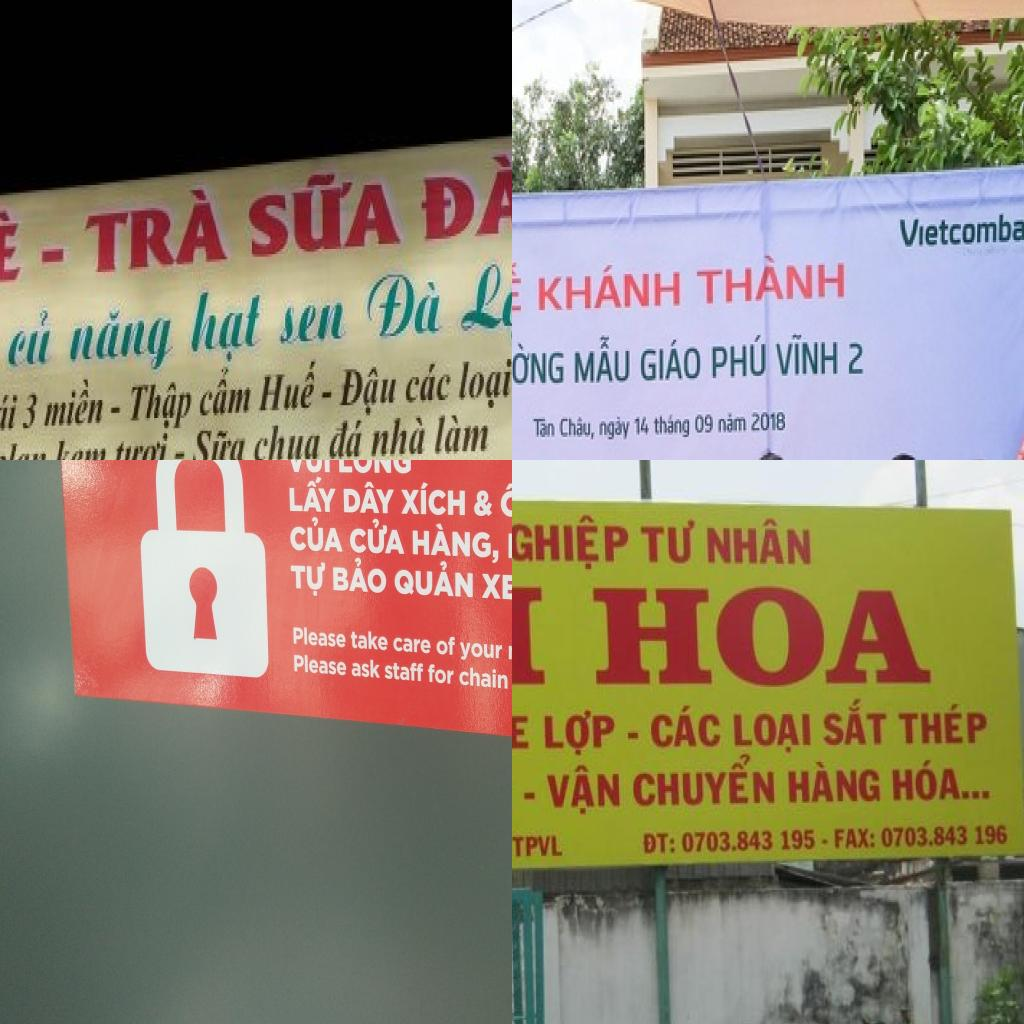text: (584, 578, 946, 697), (243, 164, 409, 267), (79, 180, 236, 285), (692, 249, 852, 310), (416, 149, 512, 249), (632, 754, 780, 818), (534, 258, 686, 317), (65, 303, 180, 377), (186, 282, 271, 367), (512, 511, 630, 572), (361, 267, 448, 346), (886, 752, 996, 810), (705, 516, 815, 571), (541, 755, 623, 822), (784, 759, 885, 813), (894, 700, 993, 754), (454, 259, 512, 348), (678, 824, 819, 860), (276, 292, 352, 354), (538, 706, 618, 762), (406, 520, 501, 567), (39, 372, 108, 436), (126, 377, 198, 438), (729, 706, 818, 755), (818, 694, 892, 752), (256, 354, 323, 418), (772, 326, 843, 383), (194, 364, 255, 428), (336, 362, 403, 420), (646, 704, 725, 753), (638, 331, 706, 387), (4, 306, 59, 374), (456, 351, 512, 417), (708, 328, 771, 385), (393, 558, 477, 600), (571, 331, 633, 387), (637, 516, 700, 569), (249, 418, 327, 460), (368, 410, 429, 460), (430, 413, 494, 460), (402, 356, 455, 410), (512, 337, 567, 389), (397, 479, 469, 518), (0, 202, 28, 300), (345, 519, 409, 558), (330, 557, 389, 599), (340, 477, 398, 519), (287, 516, 346, 557), (188, 425, 253, 460), (285, 475, 338, 517), (109, 428, 172, 460), (287, 556, 328, 602), (326, 415, 367, 460), (290, 621, 348, 652), (292, 652, 348, 680), (830, 822, 879, 854), (512, 830, 564, 860), (50, 436, 112, 460), (458, 664, 510, 692), (650, 410, 694, 442), (335, 460, 413, 477), (34, 238, 70, 274), (748, 405, 788, 437), (477, 568, 512, 604), (457, 637, 505, 663), (638, 830, 679, 860), (0, 390, 23, 441), (512, 707, 534, 760), (19, 390, 43, 438), (558, 414, 598, 442), (598, 412, 633, 444), (383, 660, 426, 686), (846, 335, 870, 381), (0, 438, 50, 460), (350, 627, 390, 654), (392, 633, 433, 657), (512, 258, 526, 319), (716, 412, 750, 437), (424, 662, 456, 688), (532, 412, 560, 440), (283, 460, 332, 476), (348, 659, 382, 681), (692, 410, 716, 439), (497, 474, 512, 518), (633, 412, 652, 442), (436, 634, 457, 656), (110, 402, 126, 420), (318, 390, 336, 405), (172, 446, 188, 460)
